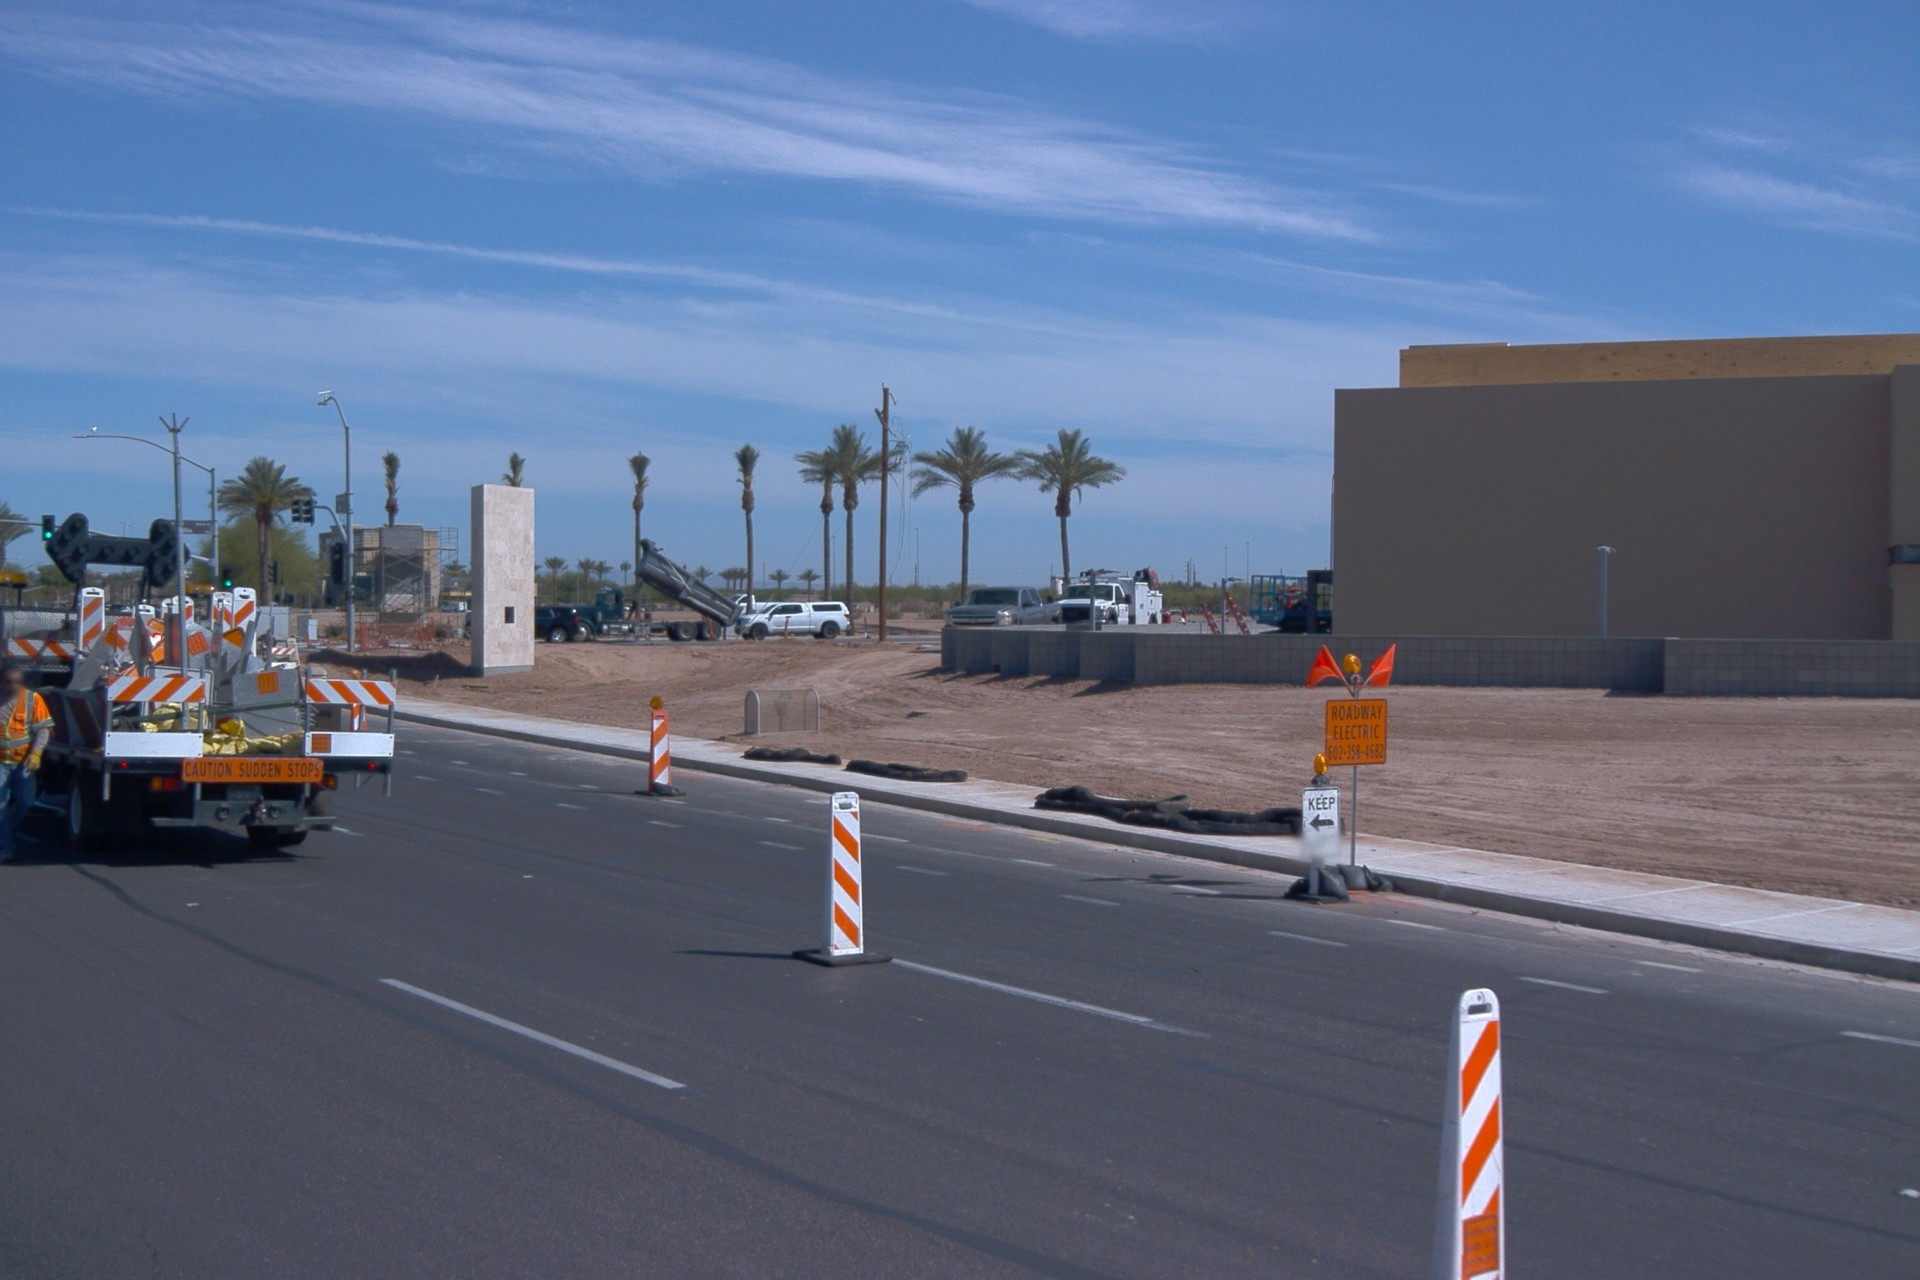TYPE_PEDESTRIAN: (0, 662, 56, 864)
TYPE_VEHICLE: (0, 410, 406, 862), (567, 537, 746, 644), (1055, 560, 1173, 626), (941, 578, 1067, 635), (461, 602, 582, 651), (732, 603, 852, 645), (256, 604, 291, 649), (725, 594, 778, 619), (444, 600, 467, 613), (76, 594, 82, 608)
